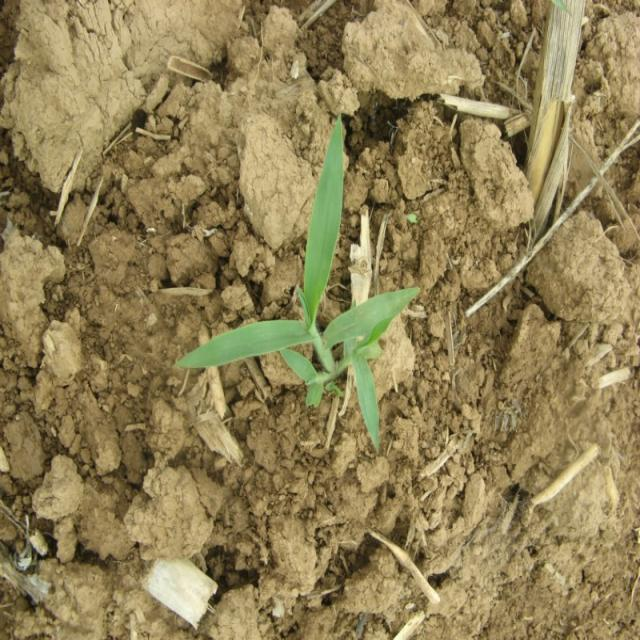bg: (175, 116, 417, 452)
